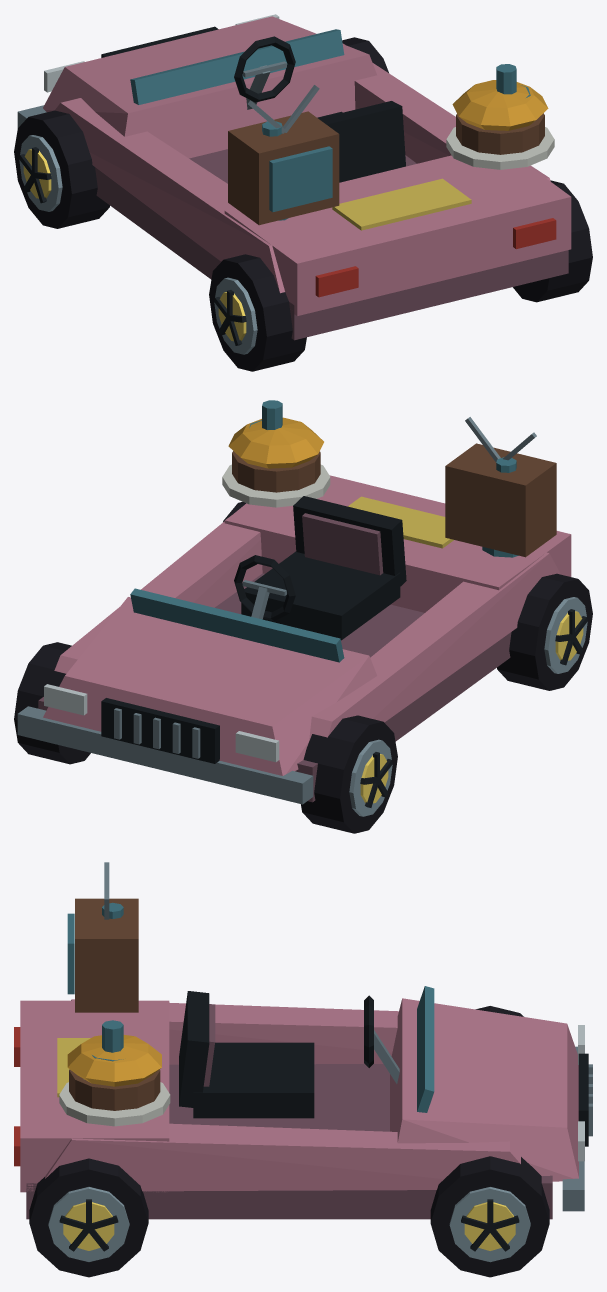
Rendered from kart.glb.
The picture shows the model from 3 angles, top to bottom: view 1: azimuth 30°, elevation 25°; view 2: azimuth 150°, elevation 25°; view 3: azimuth 270°, elevation 25°; orthographic projection. The views are drawn at different scales.
Parts seen in each view (by area): view 1: identity-sedan-sedan-road-car-body, identity-sedan-motif-television, wheel-front-left, wheel-rear-left, identity-sedan-motif-food, identity-sedan-driver-cockpit, wheel-rear-right, identity-sedan-motif-bottles, wheel-front-right; view 2: identity-sedan-sedan-road-car-body, identity-sedan-driver-cockpit, identity-sedan-motif-television, wheel-front-left, wheel-rear-left, identity-sedan-motif-food, wheel-front-right, identity-sedan-motif-bottles; view 3: identity-sedan-sedan-road-car-body, identity-sedan-driver-cockpit, wheel-front-right, wheel-rear-right, identity-sedan-motif-television, identity-sedan-motif-food, identity-sedan-motif-bottles.
Part boxes in pixels (x1,y1,x2,y2): identity-sedan-sedan-road-car-body: (17, 14, 571, 340); identity-sedan-motif-television: (228, 85, 339, 225); wheel-front-left: (14, 110, 109, 228); wheel-rear-left: (209, 254, 306, 371); identity-sedan-motif-food: (446, 80, 554, 169); identity-sedan-driver-cockpit: (234, 36, 405, 182); wheel-rear-right: (513, 180, 592, 302); identity-sedan-motif-bottles: (262, 64, 530, 220); wheel-front-right: (342, 37, 388, 72); identity-sedan-sedan-road-car-body: (17, 475, 571, 804); identity-sedan-driver-cockpit: (234, 496, 406, 640); identity-sedan-motif-television: (445, 417, 556, 557); wheel-front-left: (301, 715, 397, 833); wheel-rear-left: (497, 573, 592, 690); identity-sedan-motif-food: (222, 417, 330, 507); wheel-front-right: (14, 642, 90, 764); identity-sedan-motif-bottles: (249, 400, 518, 557); identity-sedan-sedan-road-car-body: (14, 986, 592, 1219); identity-sedan-driver-cockpit: (179, 991, 399, 1118); wheel-front-right: (430, 1156, 549, 1277); wheel-rear-right: (29, 1158, 148, 1277); identity-sedan-motif-television: (67, 862, 138, 1012); identity-sedan-motif-food: (59, 1035, 170, 1126); identity-sedan-motif-bottles: (83, 902, 123, 1079).
Bounding box in the file's own units: 2.07 × 1.46 × 2.92.
